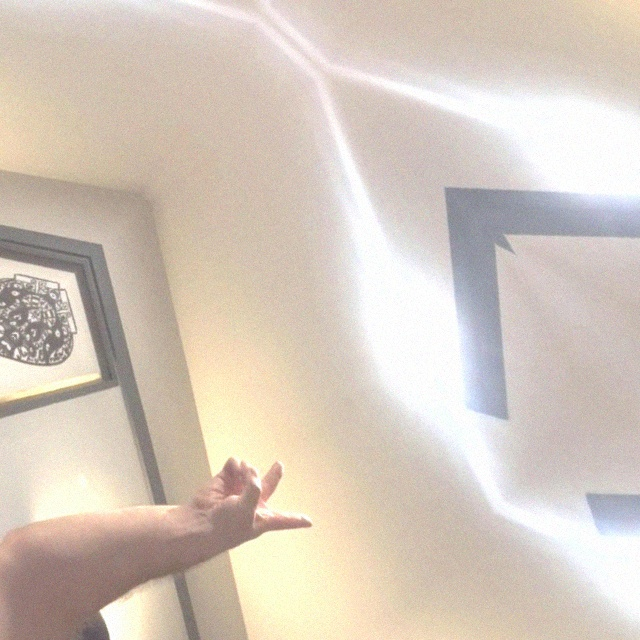Scissors: (164, 414, 344, 594)
